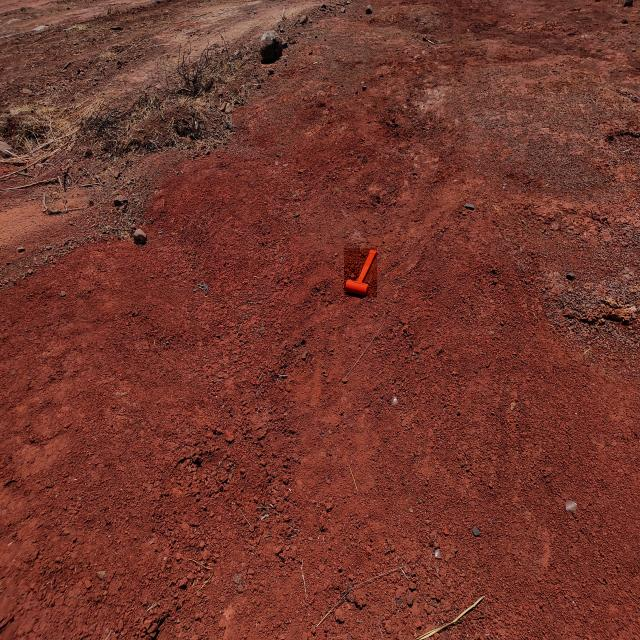Orange_hammer: (344, 248, 377, 297)
